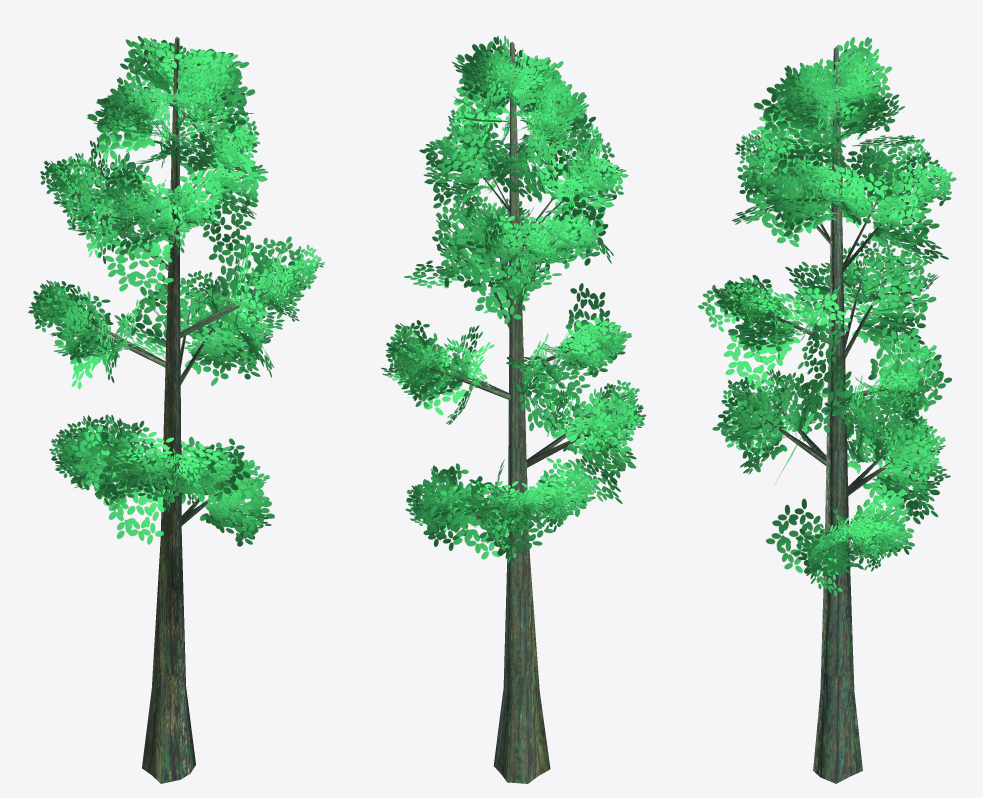
File: jabami_anime_tree_v5.glb
The picture shows the model from 3 angles, left to right: view 1: azimuth 30°, elevation 25°; view 2: azimuth 150°, elevation 25°; view 3: azimuth 270°, elevation 25°; orthographic projection.
Parts seen in each view (by area): view 1: long-01_mesh; view 2: long-01_mesh; view 3: long-01_mesh.
Boxes of the visible parts, x1=… form: long-01_mesh: x1=28, y1=36, x2=324, y2=783; long-01_mesh: x1=381, y1=36, x2=646, y2=783; long-01_mesh: x1=698, y1=37, x2=956, y2=783.
Size of the model in its own units: 4.56 by 12.79 by 4.3.
Materials: 3 (3 with a texture image).
